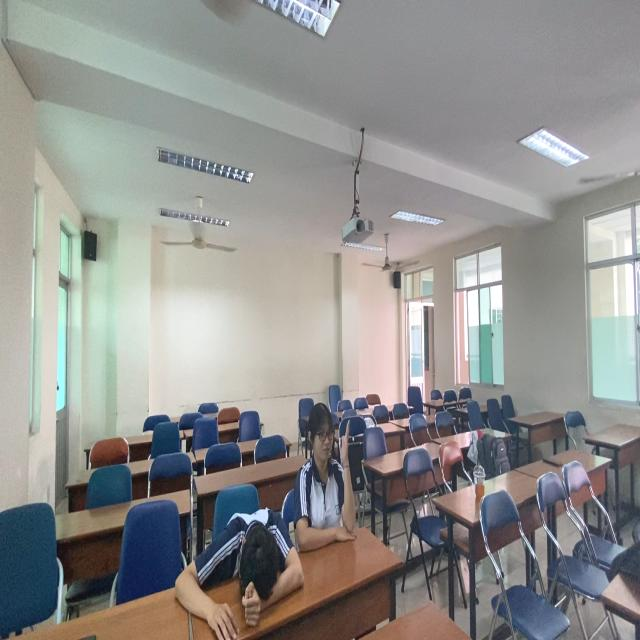raise_hand: (297, 399, 361, 550)
sleep: (174, 504, 309, 639)
